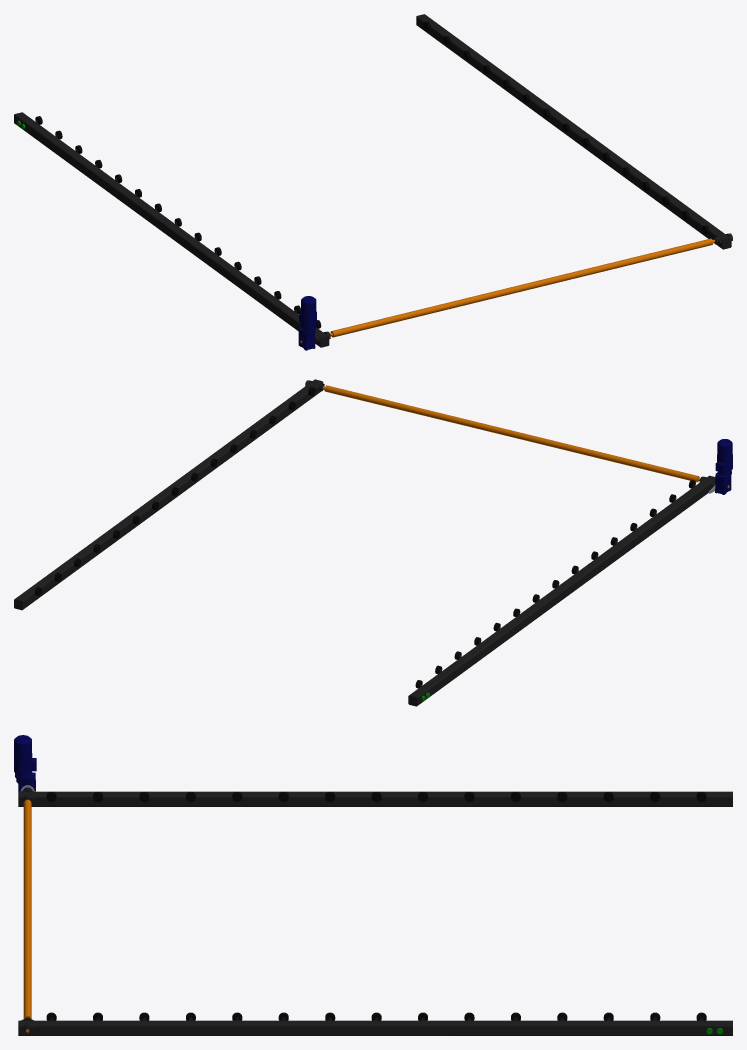
File: SHELF-S-3.obj
3 renders of one model, top to bottom at view 1: azimuth 30°, elevation 25°; view 2: azimuth 150°, elevation 25°; view 3: azimuth 270°, elevation 25°, orthographic. The views are drawn at different scales.
Parts seen in each view (by area): view 1: Mesh; view 2: Mesh; view 3: Mesh.
Boxes of the visible parts, x1=… form: Mesh: x1=14, y1=14, x2=732, y2=350; Mesh: x1=14, y1=379, x2=732, y2=706; Mesh: x1=14, y1=735, x2=732, y2=1035.
Bounding box in the file's own units: 5668 × 634 × 6999.
